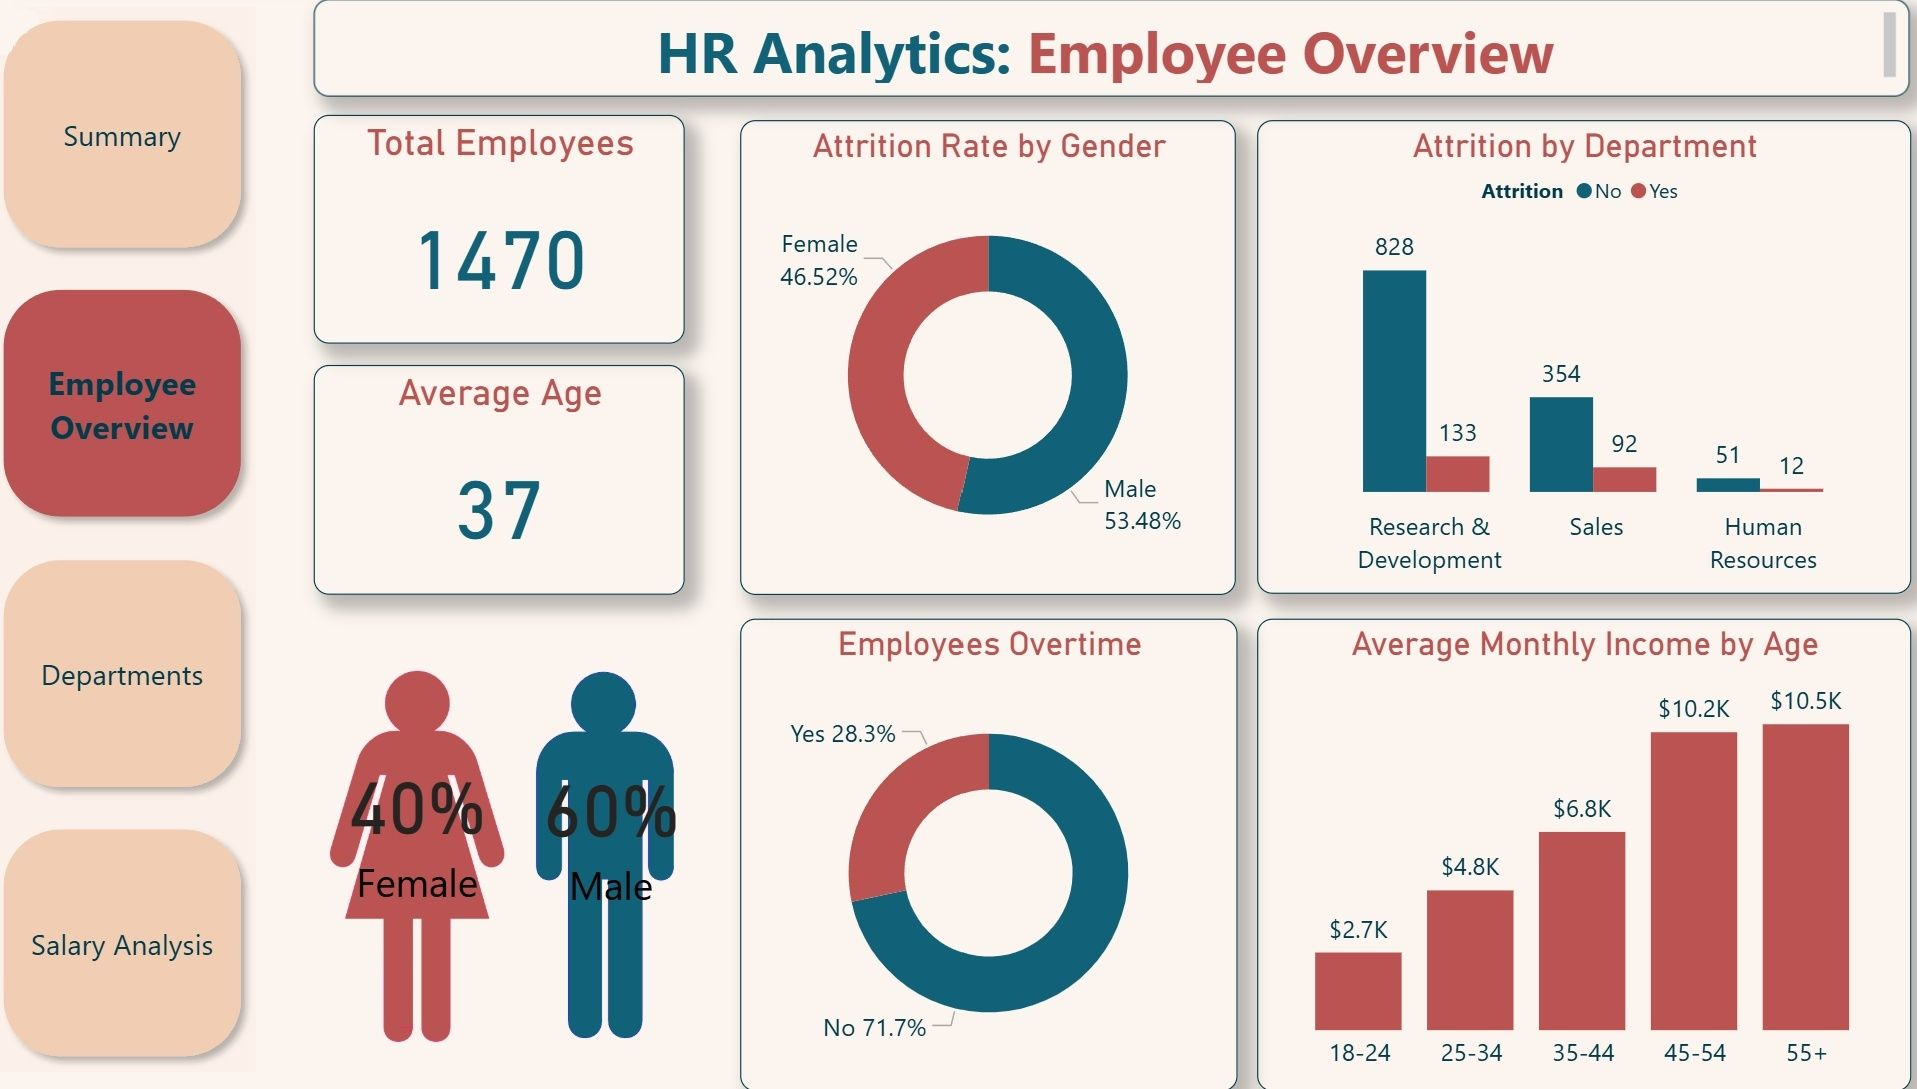

Layout of this report page (visuals, bound fields, positions):
{"tool":"powerbi","page":{"name":"Employee Overview","canvas":[1280,720],"ordinal":1},"visuals":[{"type":"textbox","box":[218,0,1048.6,64],"z":0},{"type":"card","title":"Total Employees","fields":{"Values":["Sum(HR.Analytics.EmployeeCount)"]},"box":[218,76.1,244,150.5],"z":1000},{"type":"card","title":"Average Age","fields":{"Values":["HR.Analytics.Avrg_Age"]},"box":[218,240.5,244,150.5],"z":2000},{"type":"actionButton","box":[0,0,100,40],"z":3000},{"type":"donutChart","title":"Attrition Rate by Gender","fields":{"Y":["HR.Analytics.AttritionRate"],"Category":["HR.Analytics.Gender"]},"box":[498.3,79.6,325.3,311.5],"z":4000},{"type":"clusteredColumnChart","title":"Attrition by Department","fields":{"Category":["HR.Analytics.Department"],"Series":["HR.Analytics.Attrition"],"Y":["CountNonNull(HR.Analytics.Attrition)"]},"box":[838.2,80.1,429.8,310.7],"z":5000},{"type":"clusteredColumnChart","title":"Average Monthly Income by Age","fields":{"Y":["HR.Analytics.Avrg_Monthly_Income"],"Category":["HR.Analytics.Age Group"]},"box":[838.2,406.4,429.8,310.7],"z":6000},{"type":"donutChart","title":"Employees Overtime","fields":{"Category":["HR.Analytics.OverTime"],"Y":["Sum(HR.Analytics.EmployeeCount)"]},"box":[498.2,406.4,326.3,310.7],"z":7000},{"type":"image","box":[205.2,435.7,271.6,254],"z":8000},{"type":"card","fields":{"Values":["HR.Analytics.%Female"]},"box":[218.7,478.7,136.2,125.9],"z":9000},{"type":"card","fields":{"Values":["HR.Analytics.%Male"]},"box":[348.7,468.4,127.9,150.6],"z":10000},{"type":"pageNavigator","box":[5,5,174.9,699.4],"z":11000}]}

Visuals, with their boxes in screenshot pixels (x1, y1, x2, y2), scaled from the page's 1280x720 canvas onto the 1917x1089 screenshot:
textbox: BBox(326, 0, 1897, 97)
"Total Employees" card: BBox(326, 115, 692, 343)
"Average Age" card: BBox(326, 364, 692, 591)
actionButton: BBox(0, 0, 150, 60)
"Attrition Rate by Gender" donutChart: BBox(746, 120, 1233, 592)
"Attrition by Department" clusteredColumnChart: BBox(1255, 121, 1899, 591)
"Average Monthly Income by Age" clusteredColumnChart: BBox(1255, 615, 1899, 1085)
"Employees Overtime" donutChart: BBox(746, 615, 1235, 1085)
image: BBox(307, 659, 714, 1043)
card - HR.Analytics.%Female: BBox(328, 724, 532, 914)
card - HR.Analytics.%Male: BBox(522, 708, 714, 936)
pageNavigator: BBox(7, 8, 269, 1065)
